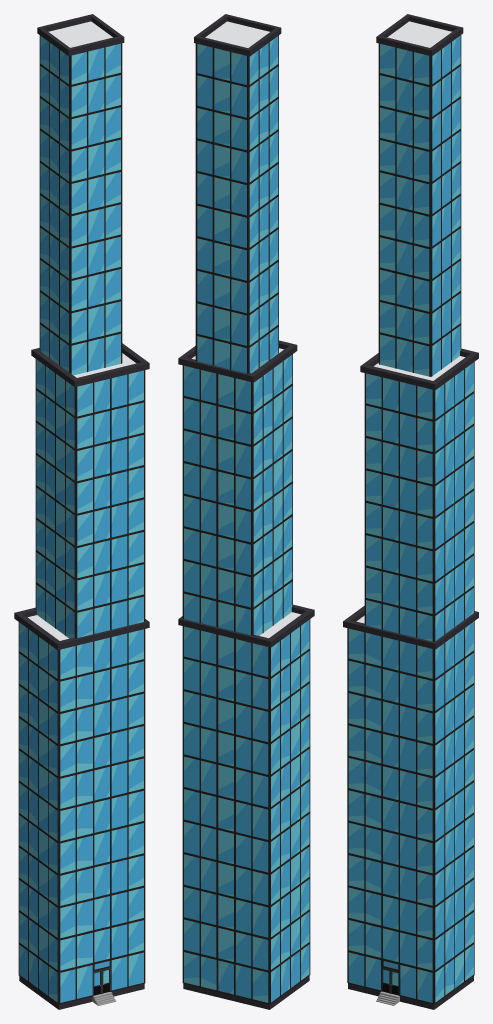
File: небоскрьоб.fbx
The picture shows the model from 3 angles, left to right: view 1: azimuth 30°, elevation 25°; view 2: azimuth 150°, elevation 25°; view 3: azimuth 330°, elevation 25°; orthographic projection.
Visible parts, largest first — view 1: Env_CompanyBuilding_04.001; view 2: Env_CompanyBuilding_04.001; view 3: Env_CompanyBuilding_04.001.
Boxes of the visible parts, bbox=[...] form: Env_CompanyBuilding_04.001: bbox=[14, 14, 149, 1009]; Env_CompanyBuilding_04.001: bbox=[178, 14, 314, 1009]; Env_CompanyBuilding_04.001: bbox=[343, 14, 478, 1009].
Size of the model in its own units: 1071 by 10535 by 953.
1 material, 1 textured.
